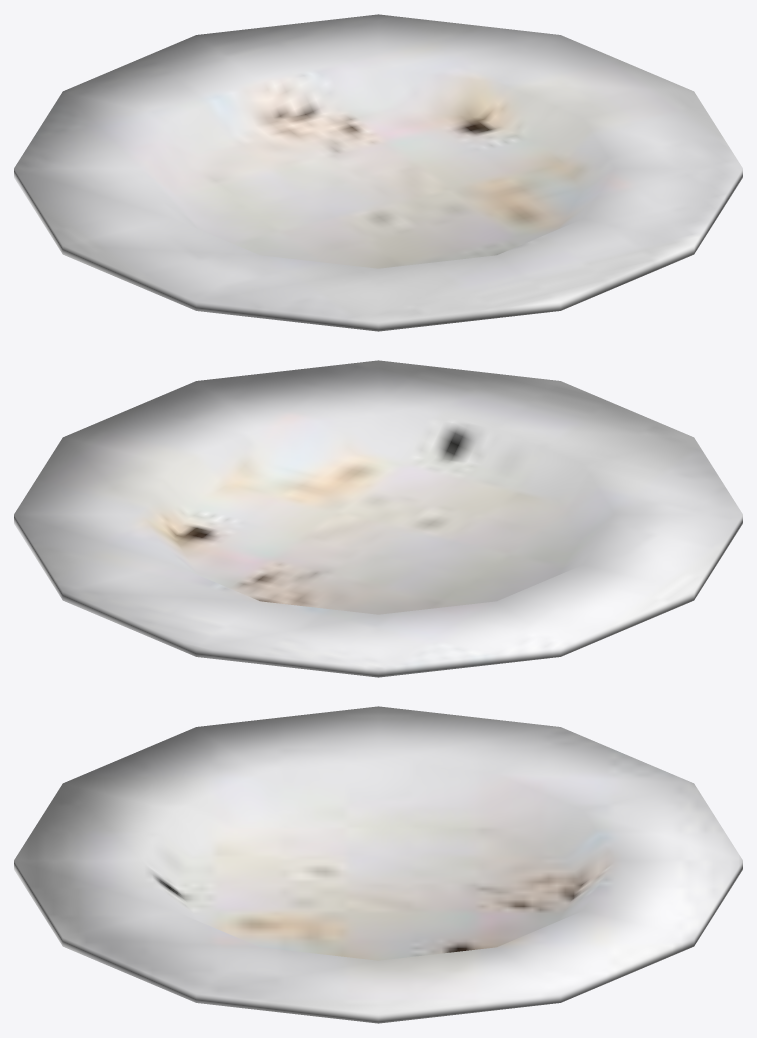
The model's file is plate_2.FBX.
The picture shows the model from 3 angles, top to bottom: view 1: azimuth 30°, elevation 25°; view 2: azimuth 150°, elevation 25°; view 3: azimuth 270°, elevation 25°; orthographic projection.
Parts seen in each view (by area): view 1: plate_2; view 2: plate_2; view 3: plate_2.
Part boxes in pixels (box(x1,y1,x2,y2)): plate_2: box(14, 14, 742, 331); plate_2: box(14, 360, 742, 677); plate_2: box(14, 706, 742, 1023).
Size of the model in its own units: 13.86 by 0.6683 by 13.86.
